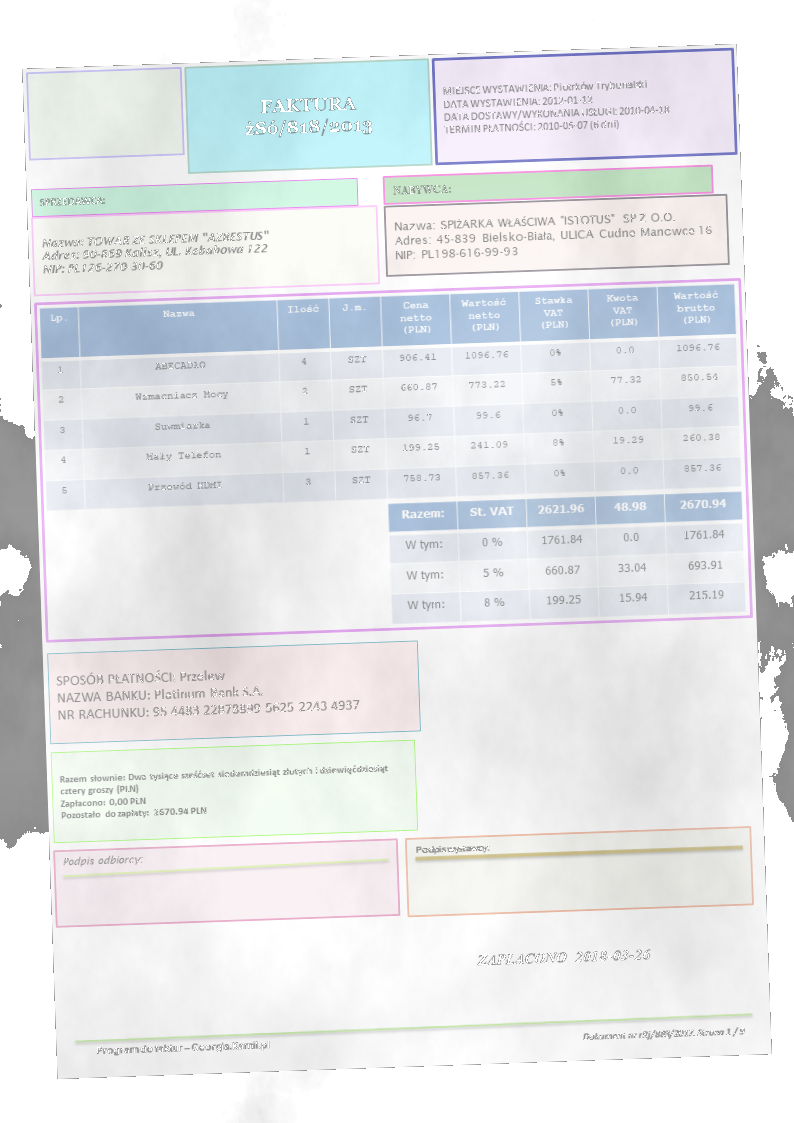Table: (38, 283, 743, 512), (386, 490, 746, 624)
TextBox: (54, 660, 363, 724), (57, 762, 391, 821), (390, 209, 715, 263), (440, 74, 672, 138), (39, 229, 271, 276), (240, 93, 376, 141), (473, 945, 653, 969), (94, 1036, 272, 1058), (581, 1024, 747, 1045), (60, 852, 146, 871), (413, 841, 490, 858), (36, 193, 107, 210), (390, 182, 453, 198)
